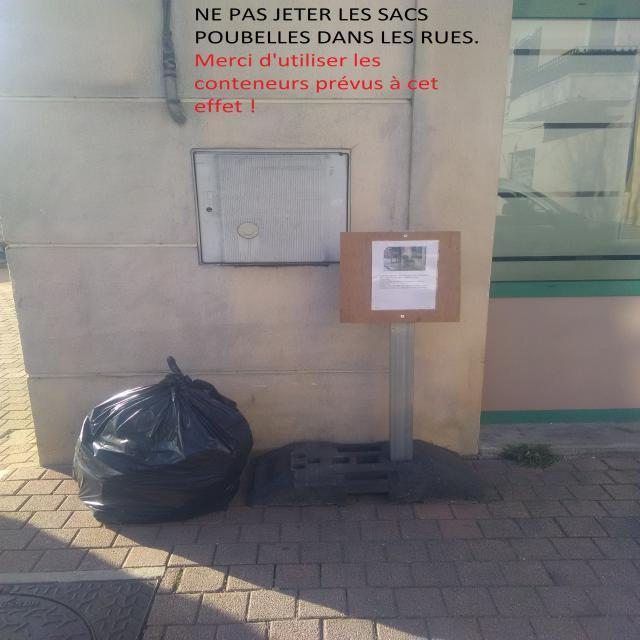Trashbag: (71, 354, 252, 530)
